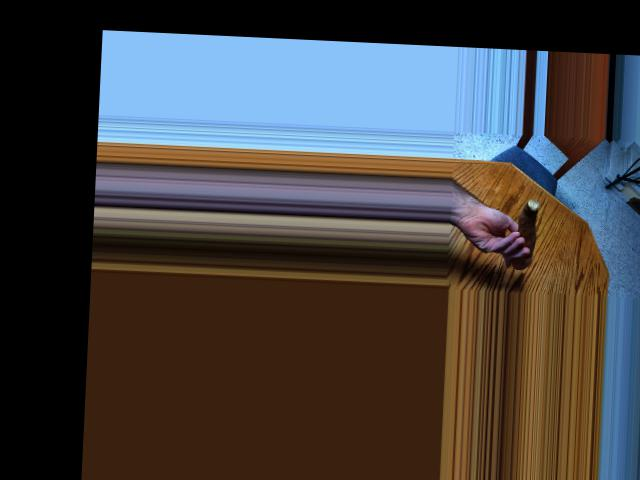sweet_potato: (513, 193, 539, 270)
